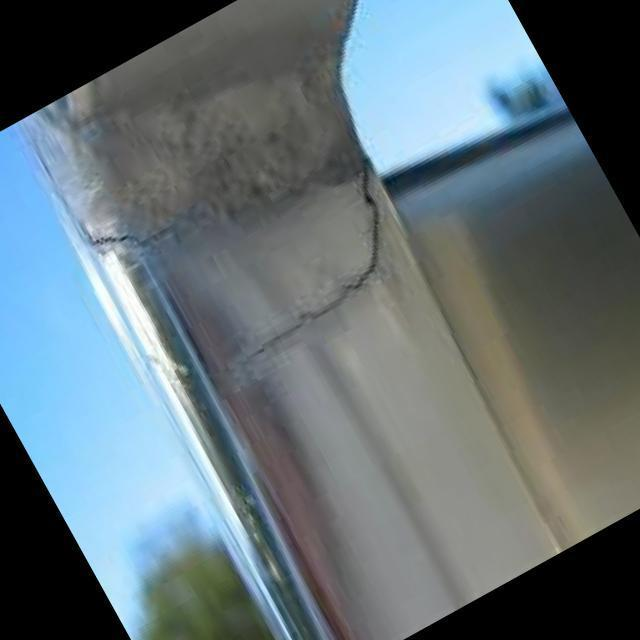defect: (233, 147, 389, 377), (71, 213, 192, 250)
